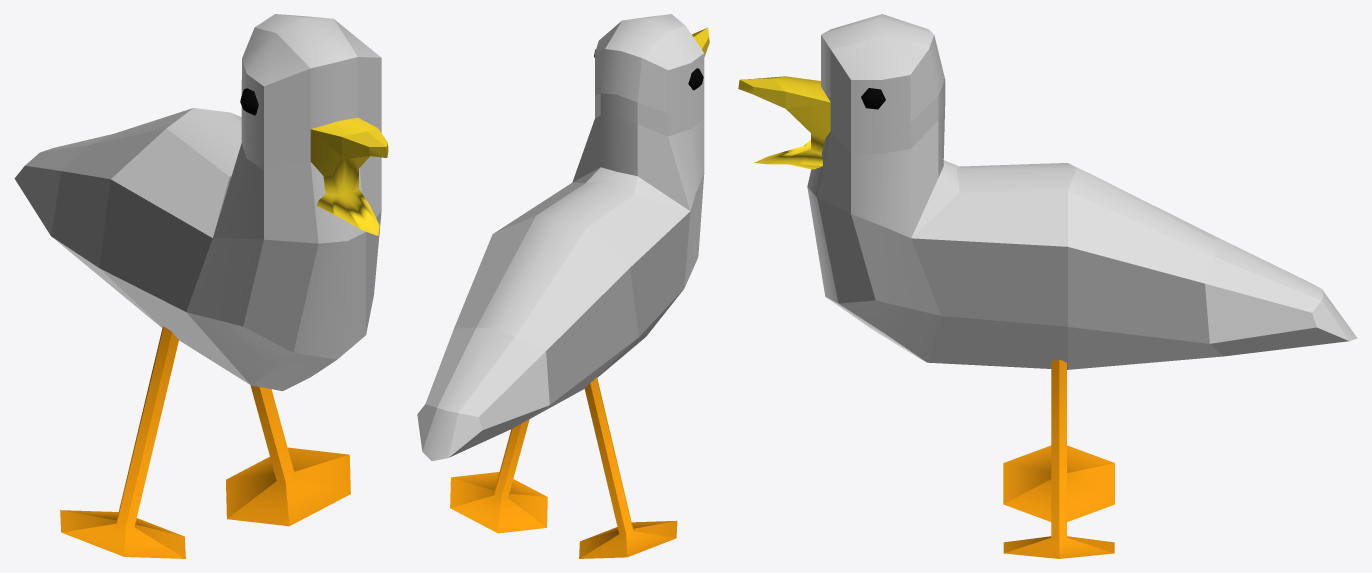
The model's file is Bird_Open.fbx.
The picture shows the model from 3 angles, left to right: view 1: azimuth 30°, elevation 25°; view 2: azimuth 150°, elevation 25°; view 3: azimuth 270°, elevation 25°; orthographic projection. The views are drawn at different scales.
Visible parts, largest first — view 1: polySurface2; view 2: polySurface2; view 3: polySurface2.
Part boxes in pixels (bbox=[...]): polySurface2: bbox=[14, 14, 388, 558]; polySurface2: bbox=[417, 14, 709, 558]; polySurface2: bbox=[738, 14, 1357, 558].
Bounding box in the file's own units: 40.89 × 79.72 × 86.96.
